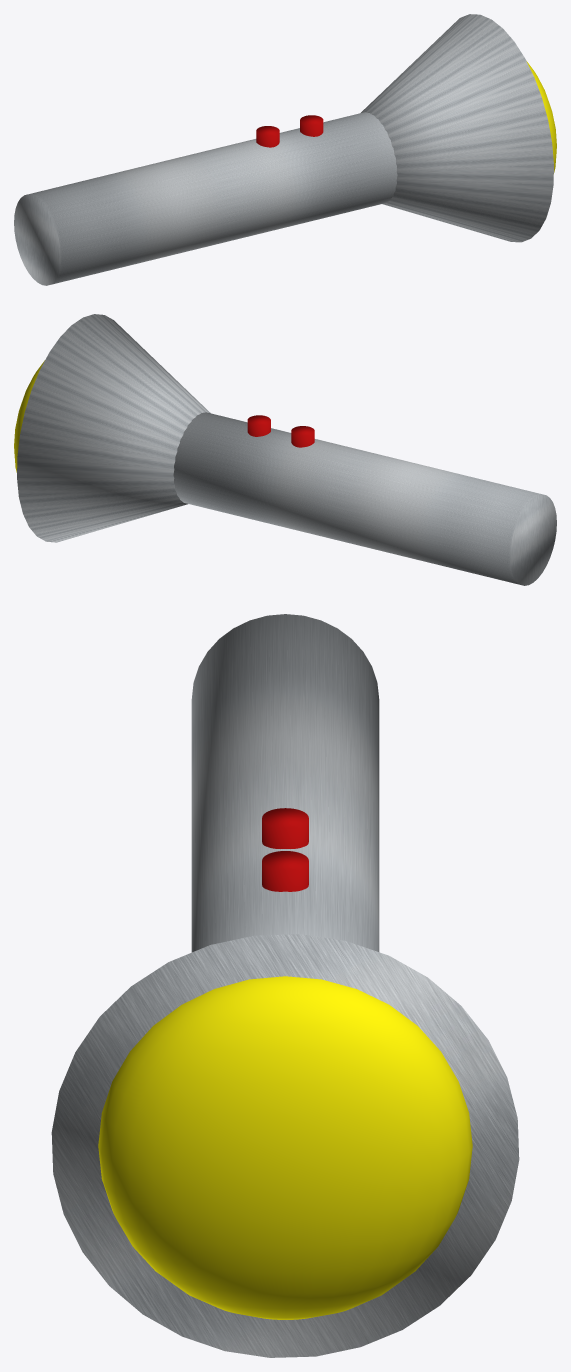
Rendered from torch.obj.
3 renders of one model, top to bottom at view 1: azimuth 30°, elevation 25°; view 2: azimuth 150°, elevation 25°; view 3: azimuth 270°, elevation 25°, orthographic. The views are drawn at different scales.
Visible parts, largest first — view 1: Cylinder, Sphere, Cylinder.002, Cylinder.001; view 2: Cylinder, Sphere, Cylinder.001, Cylinder.002; view 3: Cylinder, Sphere, Cylinder.002, Cylinder.001.
Boxes of the visible parts, <box> form: Cylinder: <box>14,14,553,285</box>; Sphere: <box>526,61,556,172</box>; Cylinder.002: <box>300,115,323,136</box>; Cylinder.001: <box>256,126,279,147</box>; Cylinder: <box>17,314,556,585</box>; Sphere: <box>14,360,44,472</box>; Cylinder.001: <box>291,426,314,447</box>; Cylinder.002: <box>247,415,270,436</box>; Cylinder: <box>51,614,519,1357</box>; Sphere: <box>98,976,472,1319</box>; Cylinder.002: <box>262,851,308,891</box>; Cylinder.001: <box>262,808,308,848</box>.
Size of the model in its own units: 2.46 by 0.9979 by 0.9979.
Materials: 3 (3 with a texture image).
